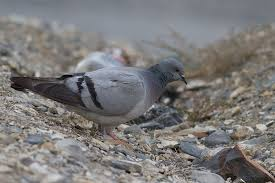pigeon: (9, 57, 190, 143)
